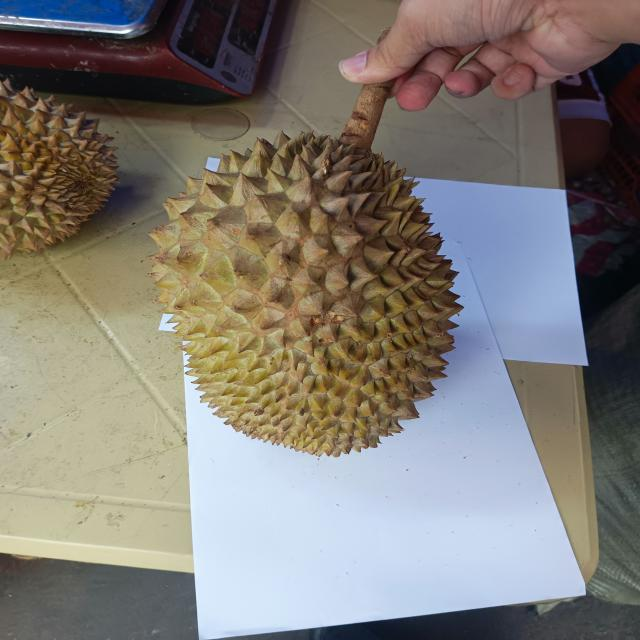mature: (144, 123, 460, 454), (0, 76, 121, 259)
